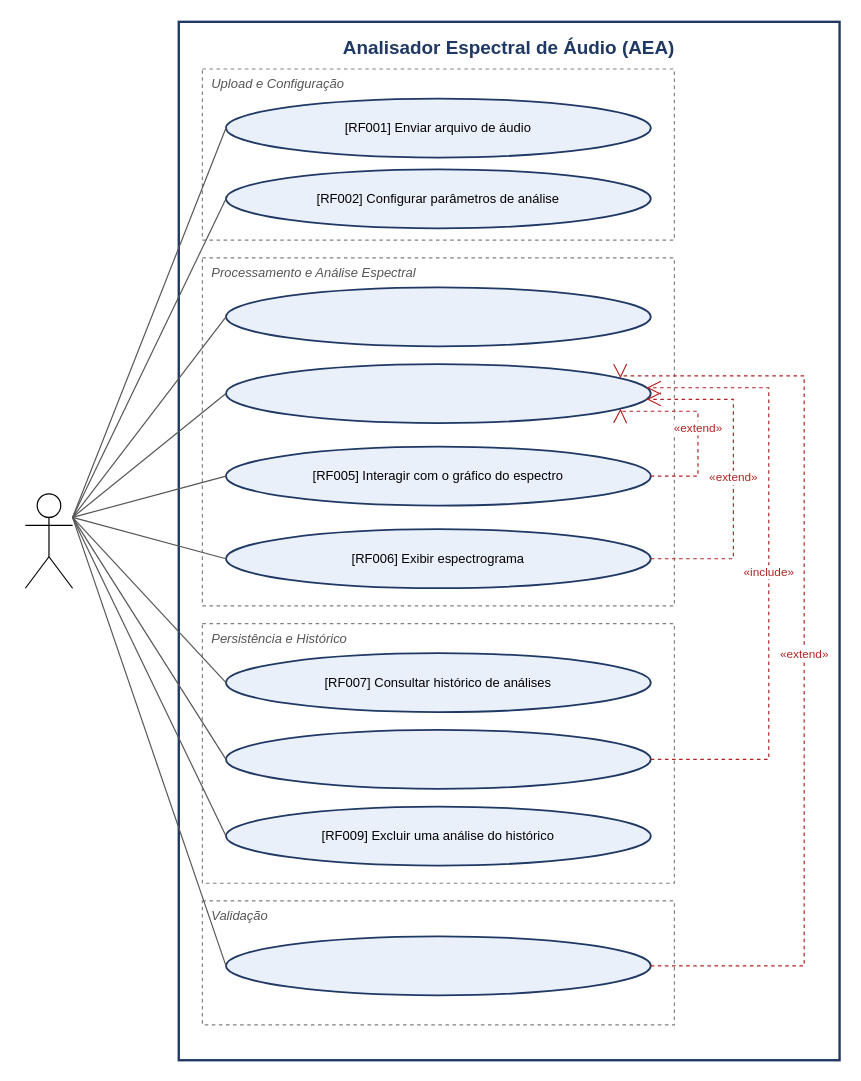
Some shapes in this 861 by 1081 pixel diagram are drawn without their labels. The centre of each missing label's shape, as x and y in pixels:
"[RF003] Calcular e persistir a análise espectral" goes at [438,316].
"[RF004] Exibir gráfico do espectro" goes at [438,393].
"[RF008] Reabrir uma análise salva" goes at [438,758].
"[RF010] Validar a análise espectral com sinal de referência" goes at [438,965].
"Usuário" goes at [48,540].
